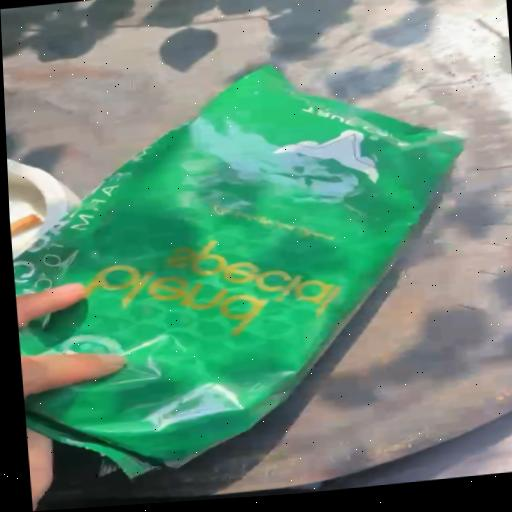cafe_xay: (12, 67, 462, 477)
